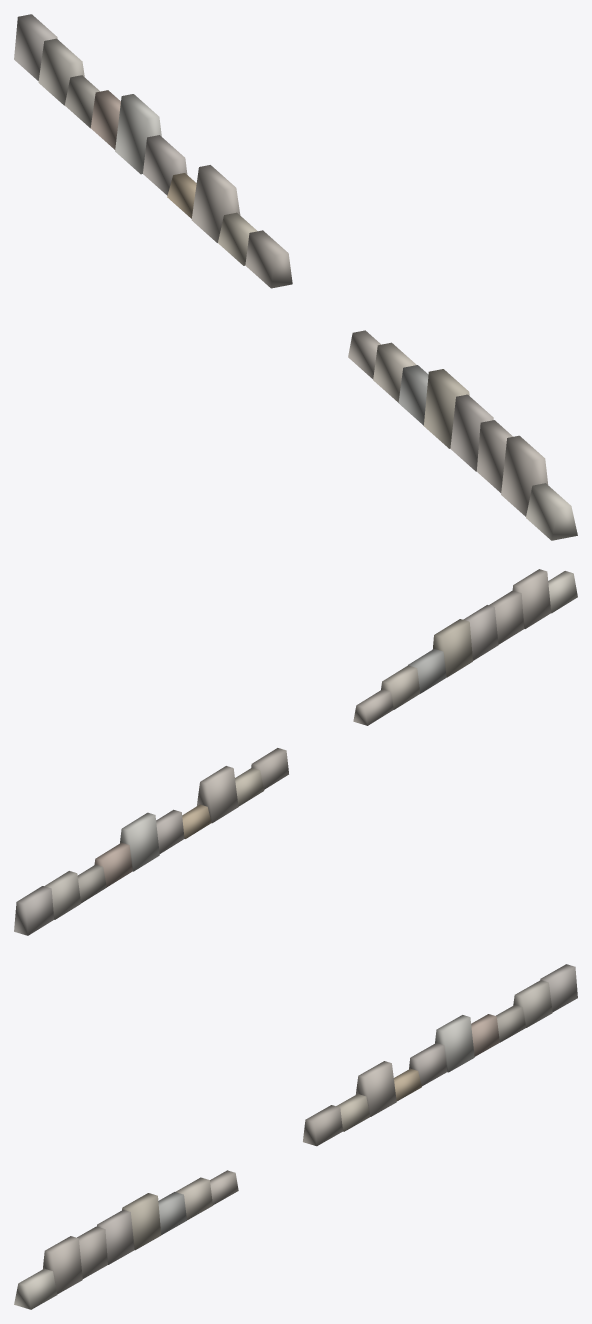
Rendered from farm_4_14_collision.glb.
3 renders of one model, top to bottom at view 1: azimuth 30°, elevation 25°; view 2: azimuth 150°, elevation 25°; view 3: azimuth 330°, elevation 25°, orthographic. The views are drawn at different scales.
Parts seen in each view (by area): view 1: geometry_0; view 2: geometry_0; view 3: geometry_0.
Part boxes in pixels (left/top/right/bottom): geometry_0: left=14, top=14, right=577, bottom=540; geometry_0: left=14, top=569, right=577, bottom=935; geometry_0: left=14, top=964, right=577, bottom=1309.
Size of the model in its own units: 3.8 by 2.07 by 32.82.
